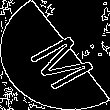M_NE: (15, 22, 95, 88)
